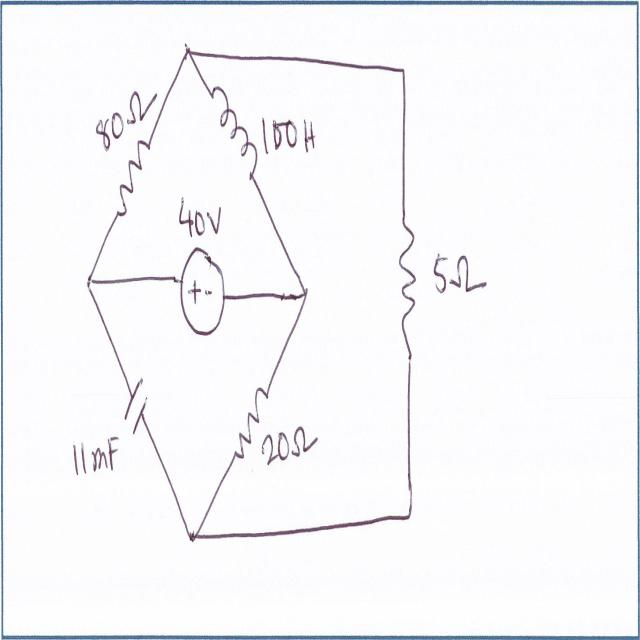capacitor: (121, 374, 149, 442)
inductor: (209, 82, 259, 180)
resistor: (397, 220, 419, 356), (118, 135, 151, 221), (232, 388, 271, 458)
voltage_source: (179, 246, 227, 337)
